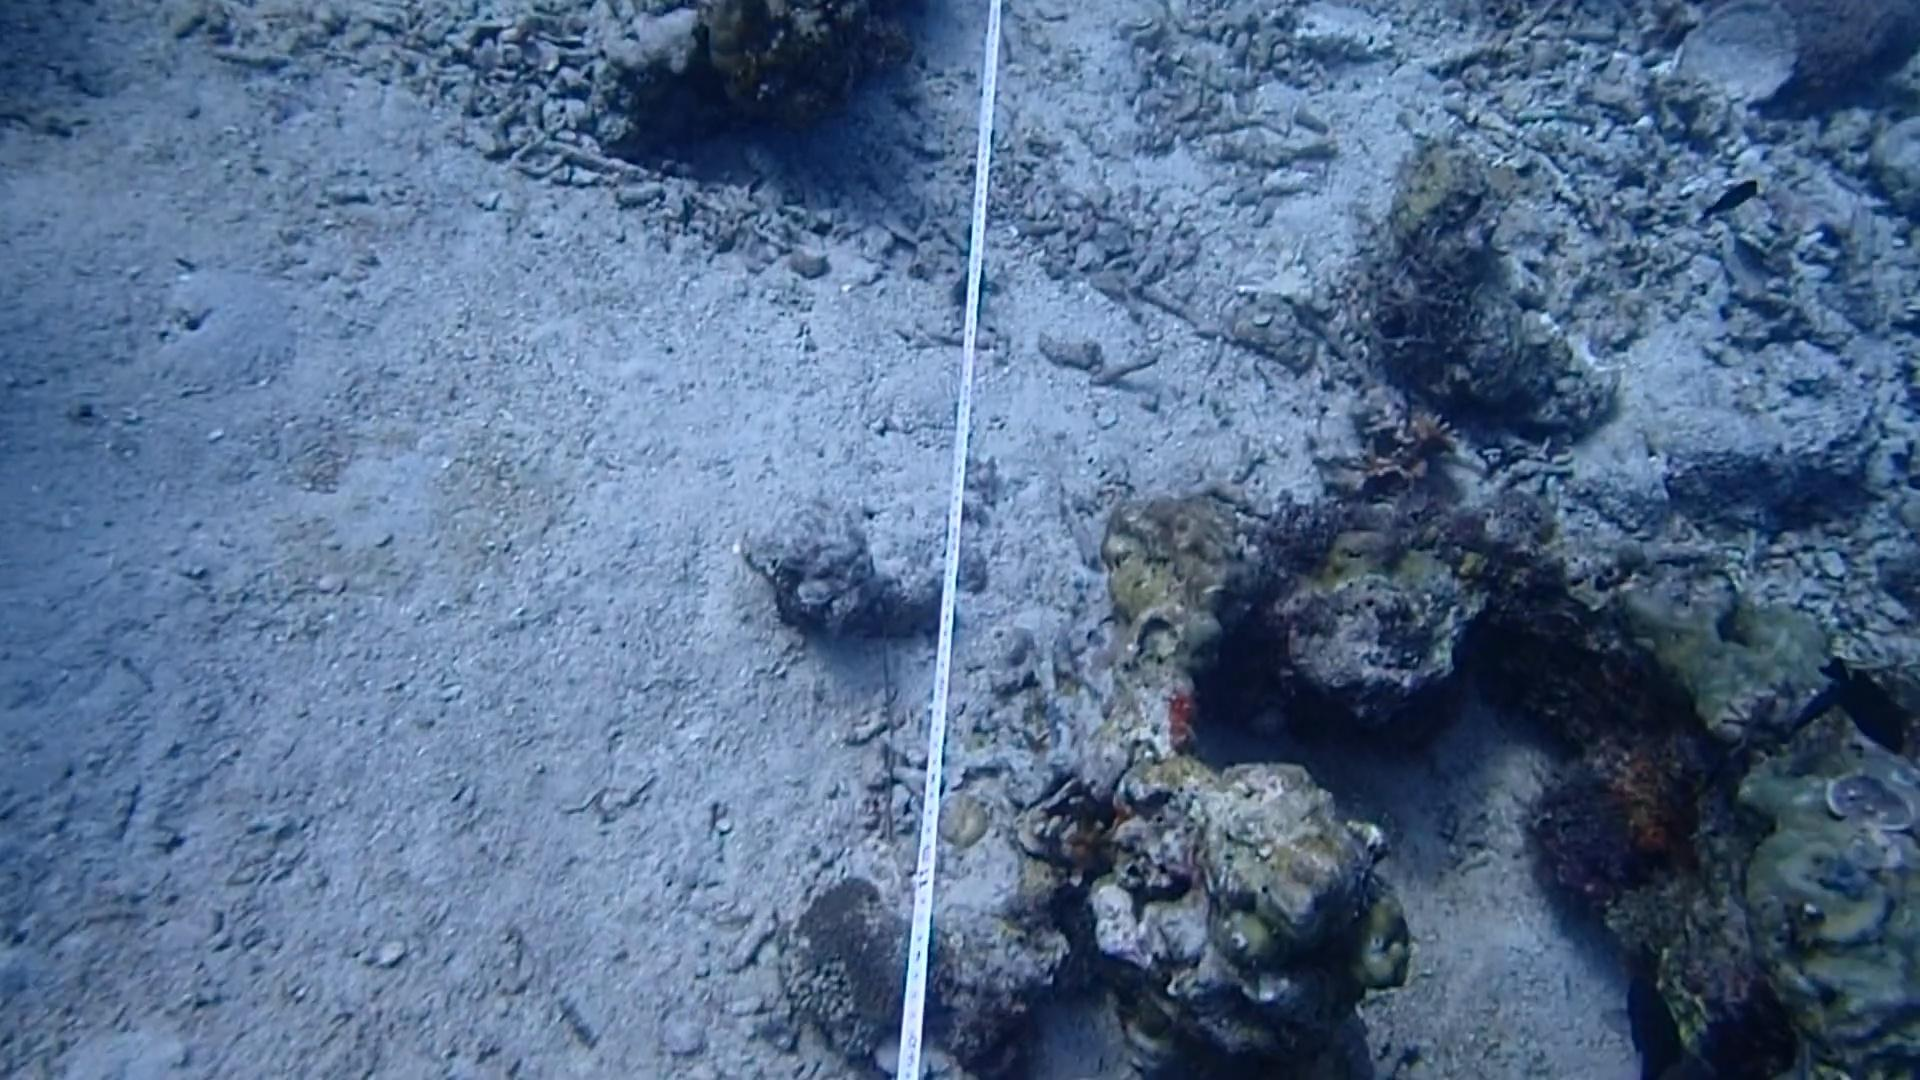Dark Fish: (1809, 649, 1911, 756), (1617, 973, 1697, 1080), (1695, 164, 1770, 233)
